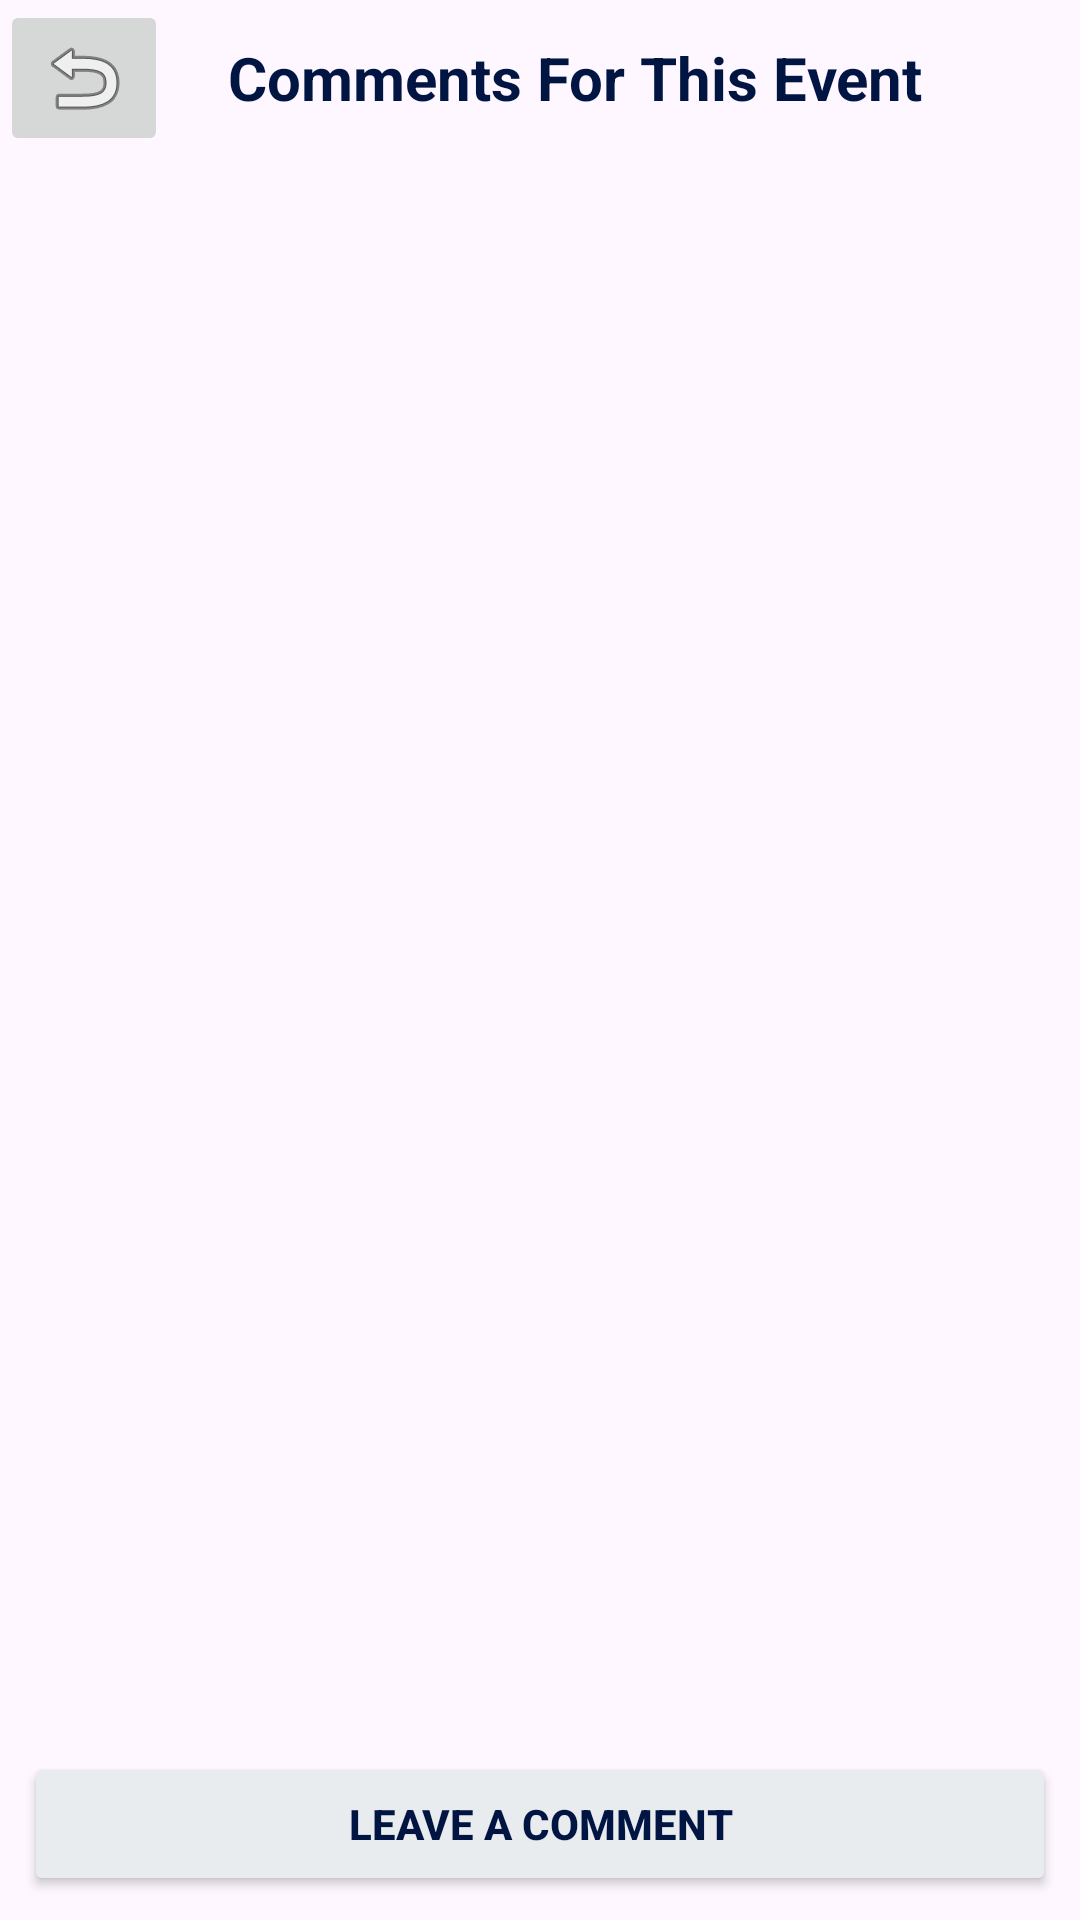

Point at icon controls on the screen. Image size 1080x1920, points as (x=x, y=y).
revert: (x=84, y=78)
